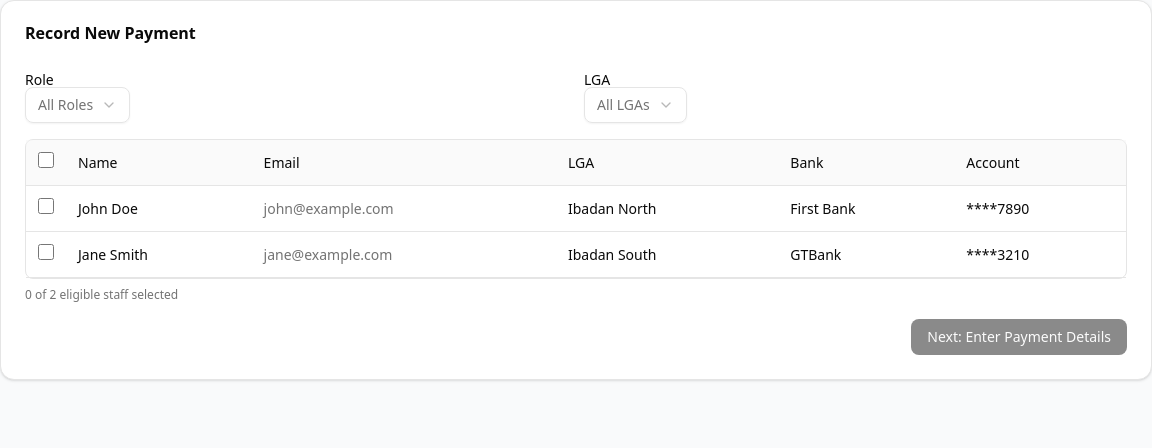
Scenario: BulkRecordingForm › can go back to step 1 from step 2
Step 1. Click the checkbox named "Select John Doe" → (46,206), box [38,198,54,214]
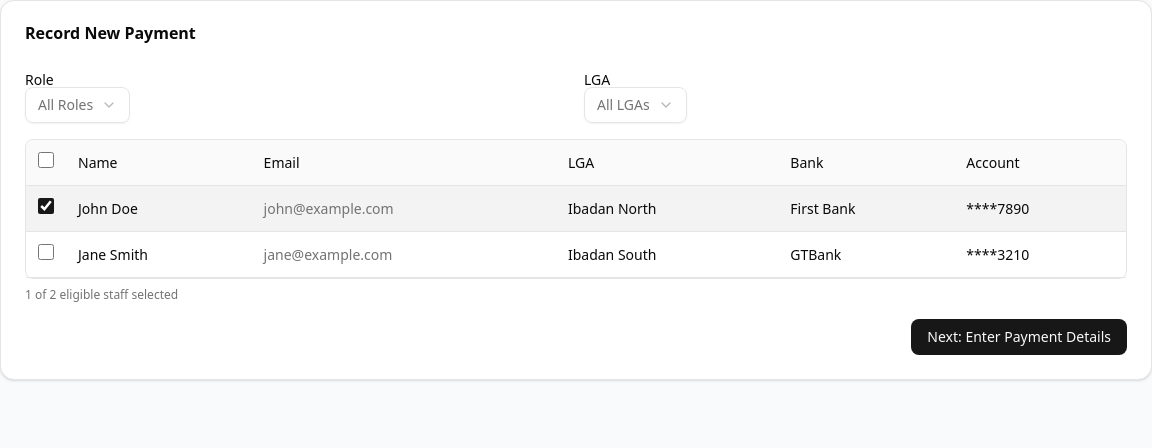
Step 2. Click the button with test id "proceed-to-step-2" → (1019,337), box [911,319,1127,355]
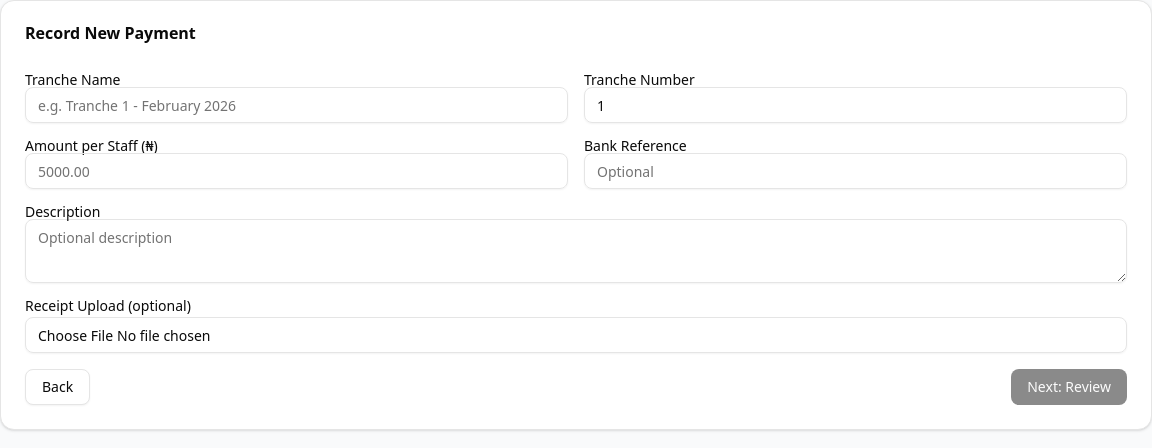
Expected: the element with test id "step-2" is shown
Step 3. Click the button "Back" → (58,387), box [25,369,90,405]
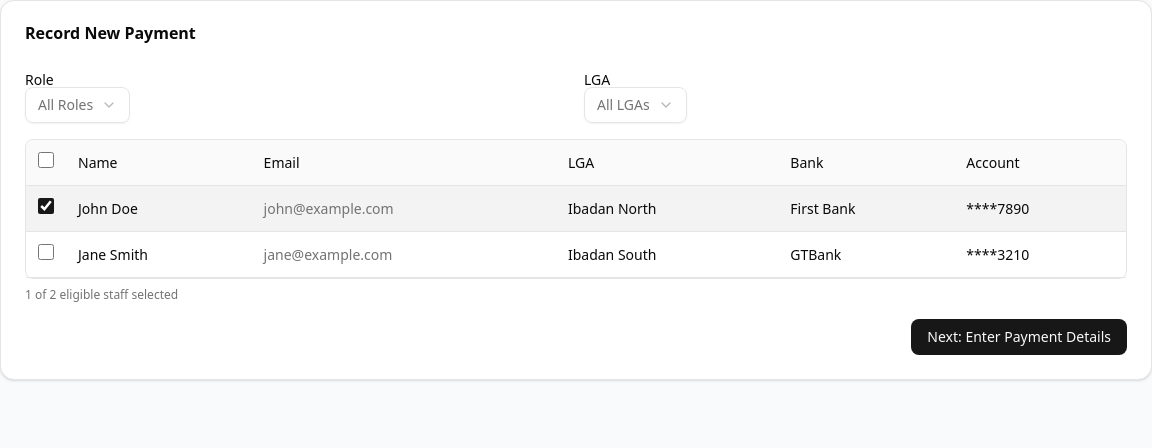
Expected: the element with test id "step-1" is shown
